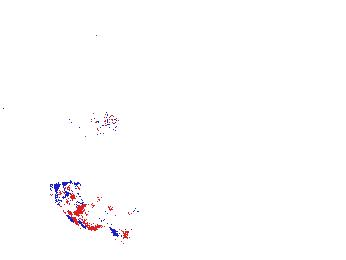X-ray fish: (47, 179, 121, 235), (68, 100, 123, 138)
